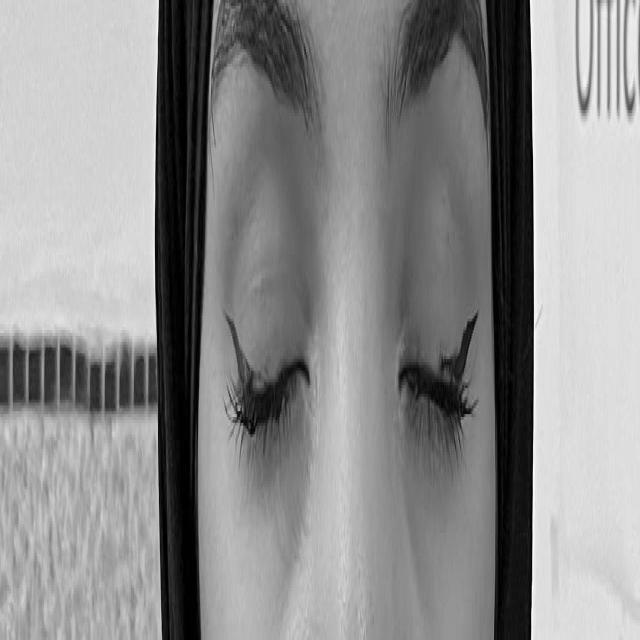real: (214, 127, 488, 563)
